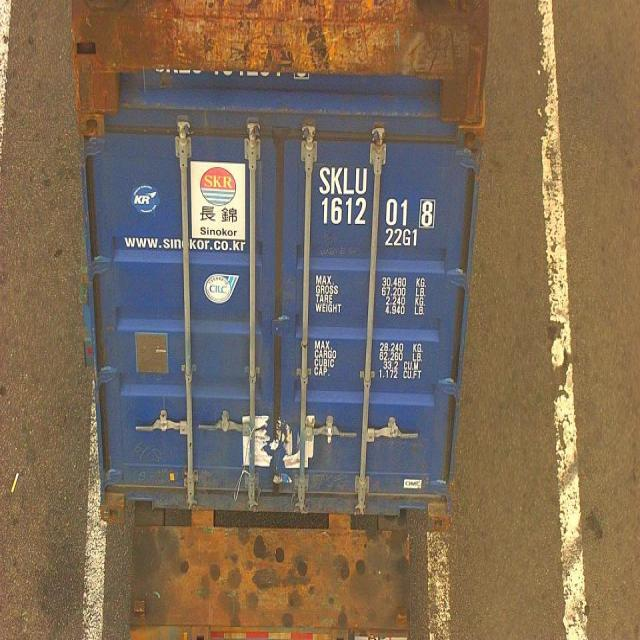ISO: (384, 227, 418, 246)
container_number: (322, 169, 437, 222)
